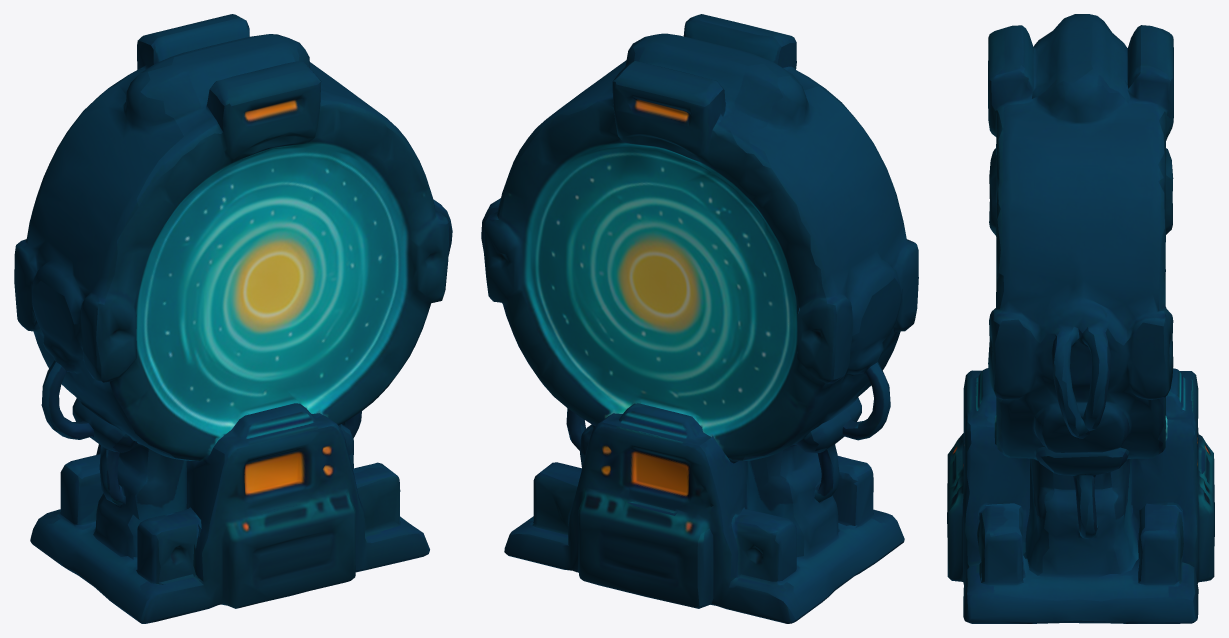
Rendered from Portal1.fbx.
The picture shows the model from 3 angles, left to right: view 1: azimuth 30°, elevation 25°; view 2: azimuth 150°, elevation 25°; view 3: azimuth 270°, elevation 25°; orthographic projection.
Visible parts, largest first — view 1: tmp02ytoxwg.ply; view 2: tmp02ytoxwg.ply; view 3: tmp02ytoxwg.ply.
Boxes of the visible parts, <box> form: tmp02ytoxwg.ply: <box>14,14,452,623</box>; tmp02ytoxwg.ply: <box>481,14,918,623</box>; tmp02ytoxwg.ply: <box>947,14,1214,623</box>.
Size of the model in its own units: 166 by 199 by 94.96.
1 material, 1 textured.
